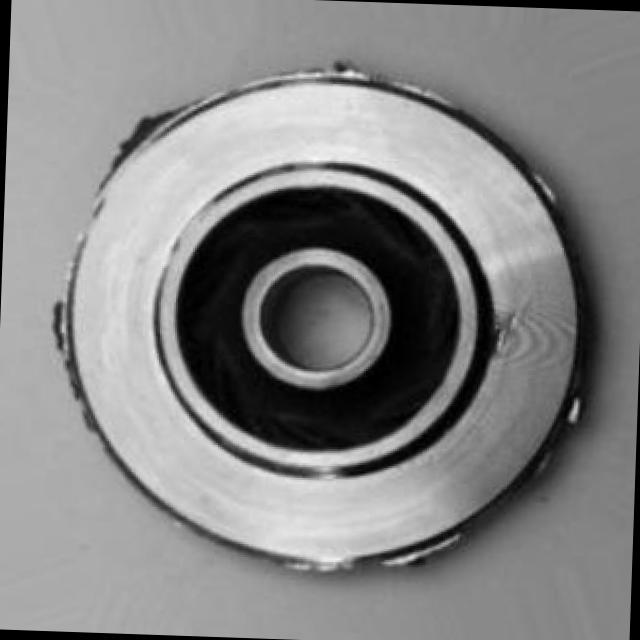Defect: (118, 108, 176, 146)
